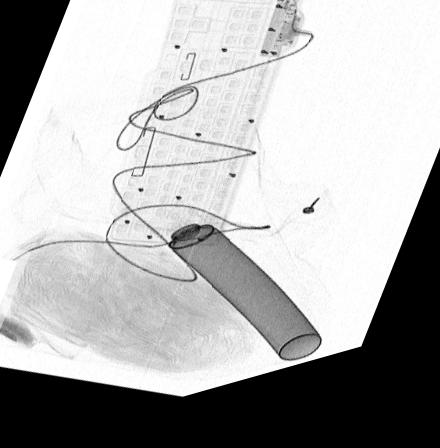Sprayer: (149, 216, 320, 377)
